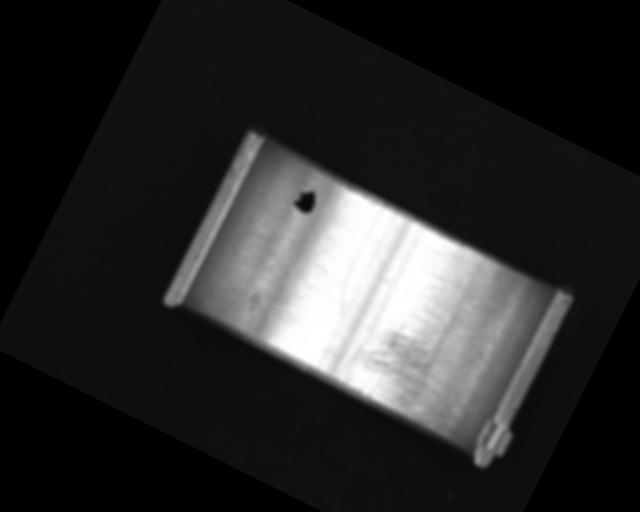blot: (290, 180, 324, 218)
bruise: (242, 288, 265, 316)
nick: (327, 202, 396, 318)
scratch: (330, 304, 468, 432)
